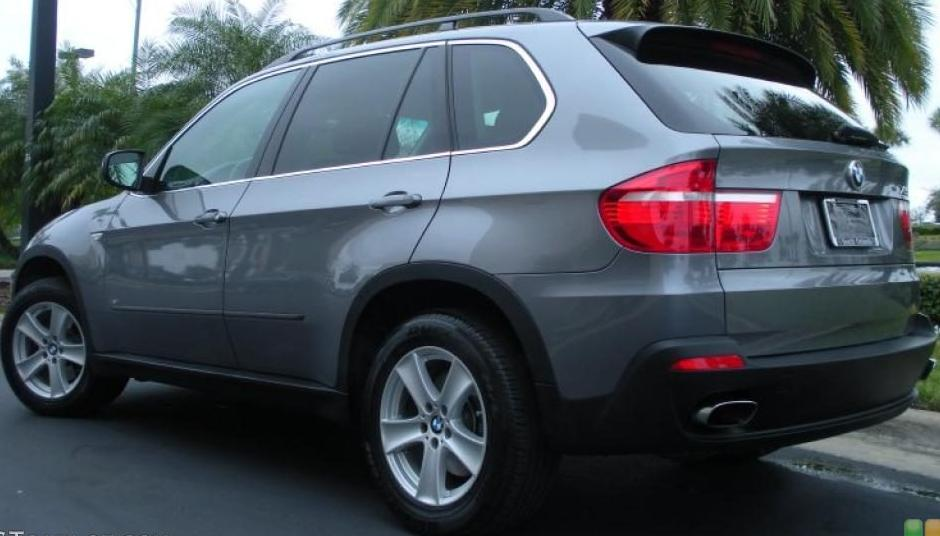back_view: (546, 123, 940, 453)
backlight: (587, 147, 796, 270)
side_glass: (152, 33, 564, 198)
